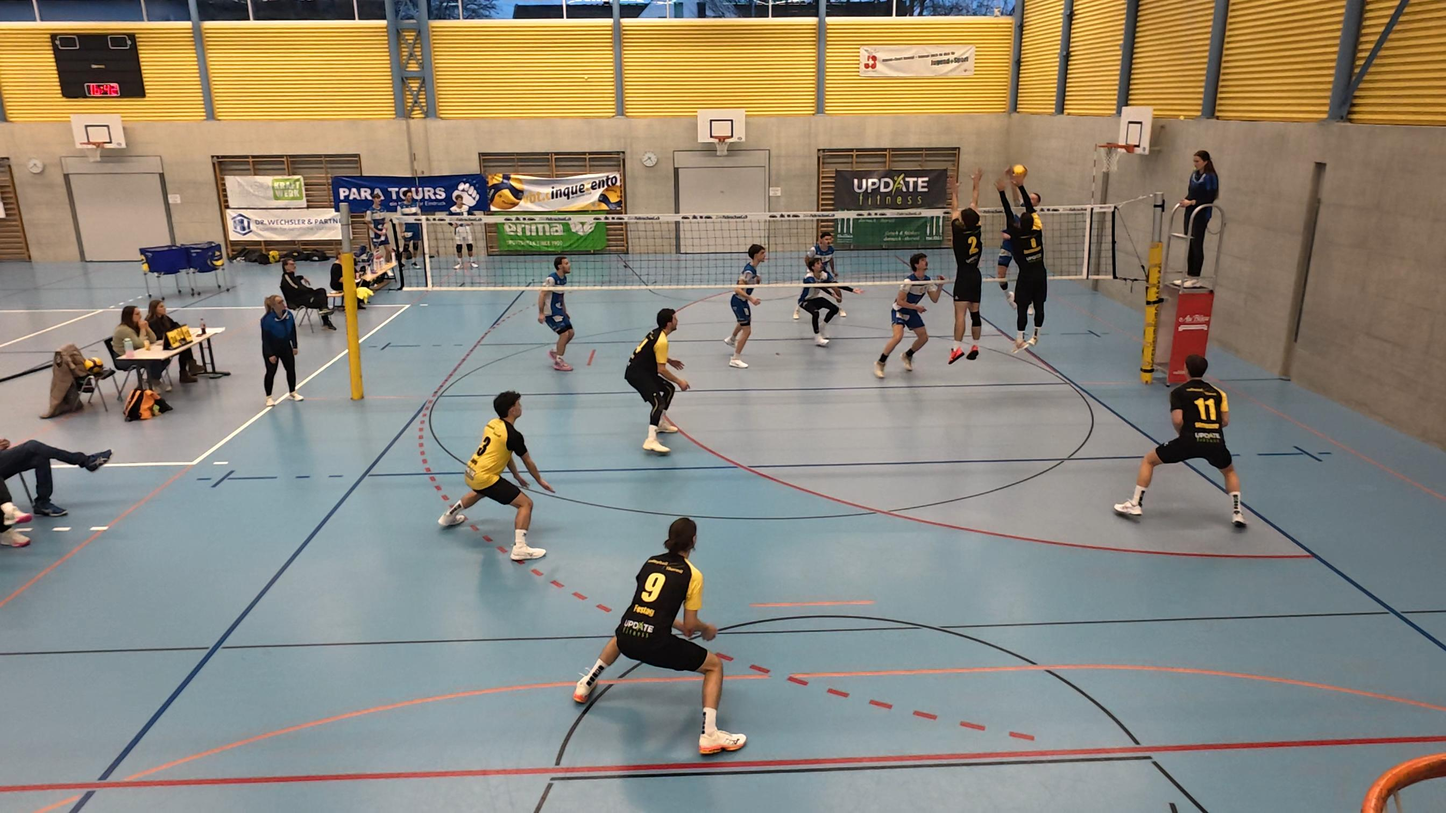Attack: (1007, 156, 1048, 218)
Block: (939, 165, 993, 367), (1002, 172, 1053, 354)
Player: (573, 517, 747, 755), (1111, 355, 1249, 528), (438, 391, 551, 561), (626, 309, 692, 453), (874, 258, 935, 377), (797, 255, 856, 347), (724, 245, 767, 368), (539, 255, 577, 370), (804, 226, 843, 275)
ball: (1009, 164, 1029, 181)
